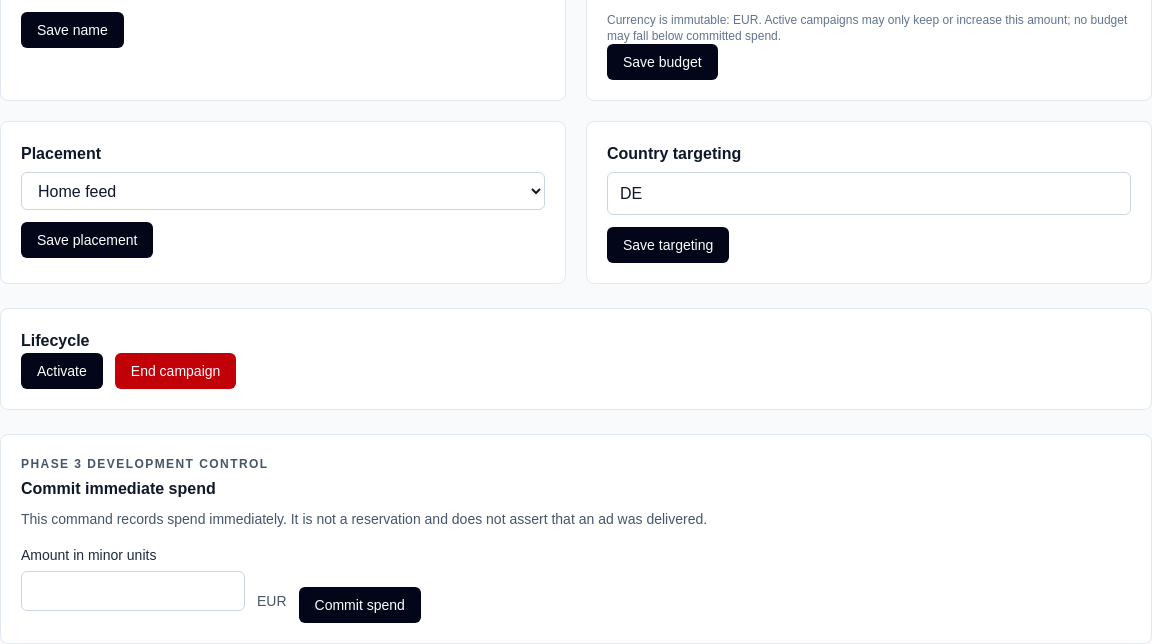
Scenario: CampaignDetail › renders authoritative accounting values and reuses the key for a safe retry
(page scrolled)
In the field named "Consumption amount": (133, 591) [21,571,245,611], type "10"
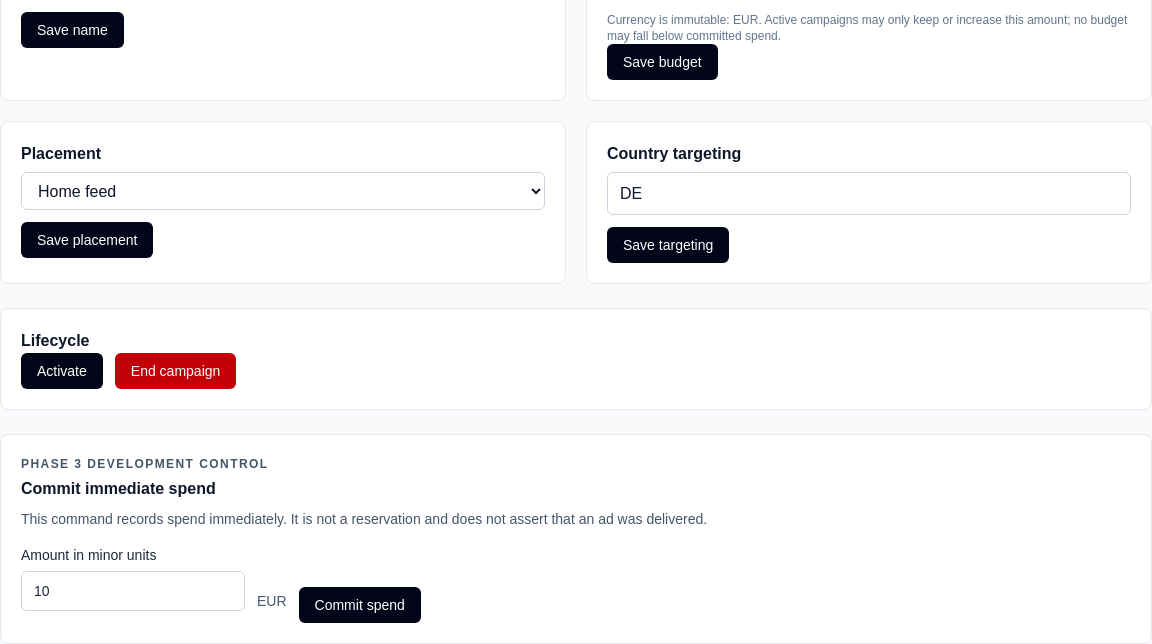
Click the button "Commit spend": (360, 605) [299,587,421,623]
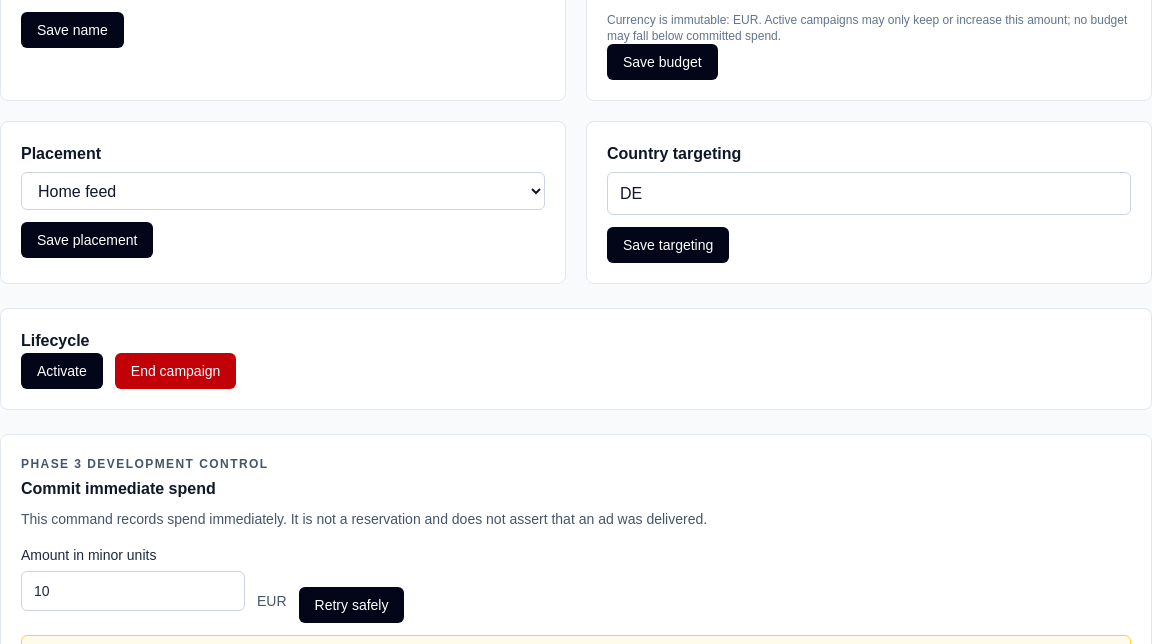
expect the button "Retry safely" is shown: met
Click the button "Retry safely": (352, 605) [299,587,404,623]
(page scrolled)
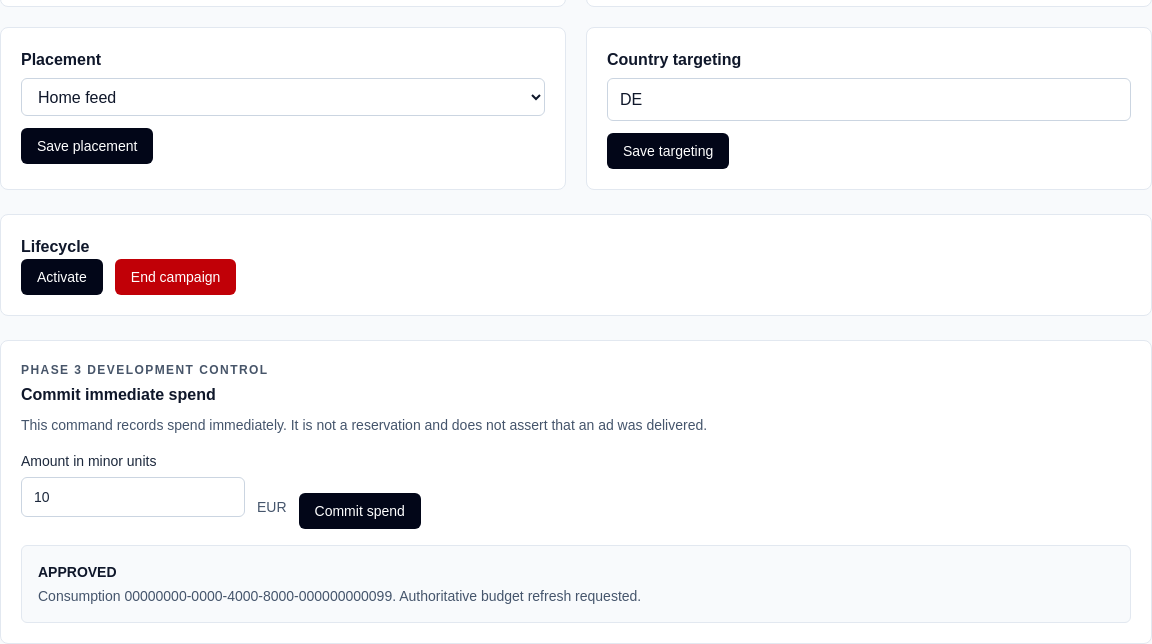
expect the text "APPROVED" is shown: met, box [38,564,117,580]
